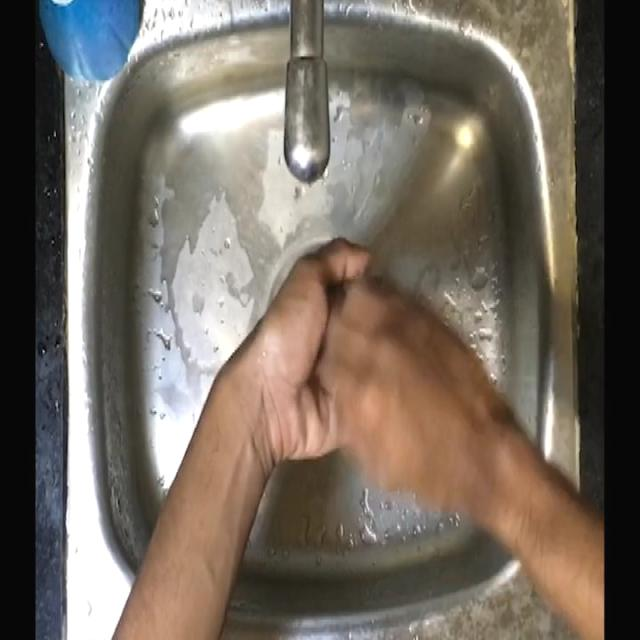step_4: (262, 233, 494, 505)
